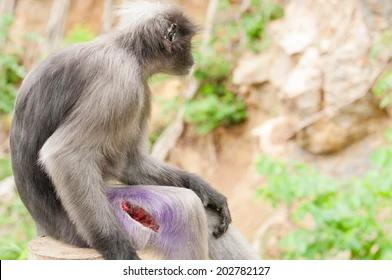cut: (104, 194, 179, 251)
